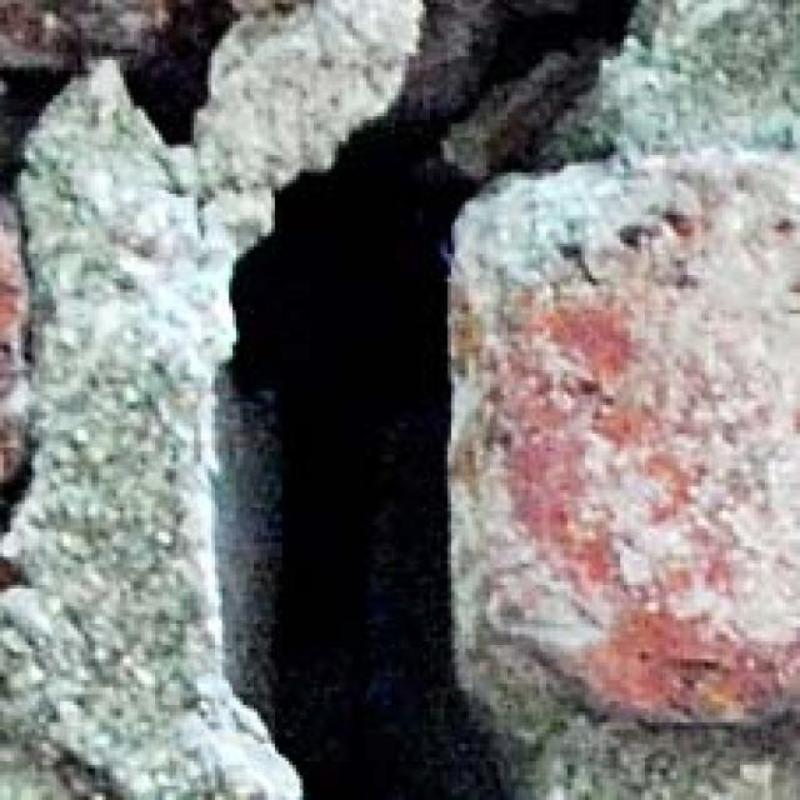pothole: (234, 0, 634, 800), (122, 0, 233, 145), (0, 69, 78, 194)
